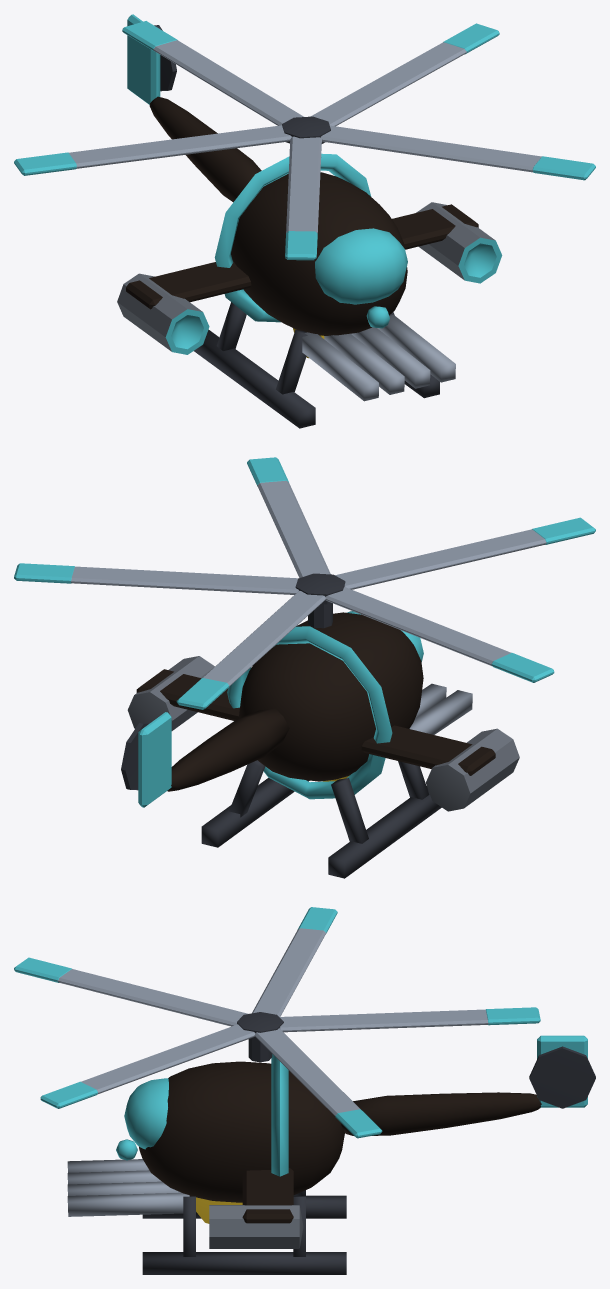
3 views of the same model, one above another, from view 1: azimuth 30°, elevation 25°; view 2: azimuth 150°, elevation 25°; view 3: azimuth 270°, elevation 25° (orthographic). The views are drawn at different scales.
Parts seen in each view (by area): view 1: heli_0_base, heli_1_torreta; view 2: heli_0_base, heli_1_torreta; view 3: heli_0_base, heli_1_torreta.
Part boxes in pixels (bbox=[...]): heli_0_base: bbox=[117, 14, 502, 428]; heli_1_torreta: bbox=[14, 21, 595, 260]; heli_0_base: bbox=[121, 611, 519, 878]; heli_1_torreta: bbox=[14, 457, 595, 709]; heli_0_base: bbox=[67, 1035, 595, 1274]; heli_1_torreta: bbox=[14, 907, 540, 1138].
Size of the model in its own units: 1.37 by 0.632 by 1.48.
